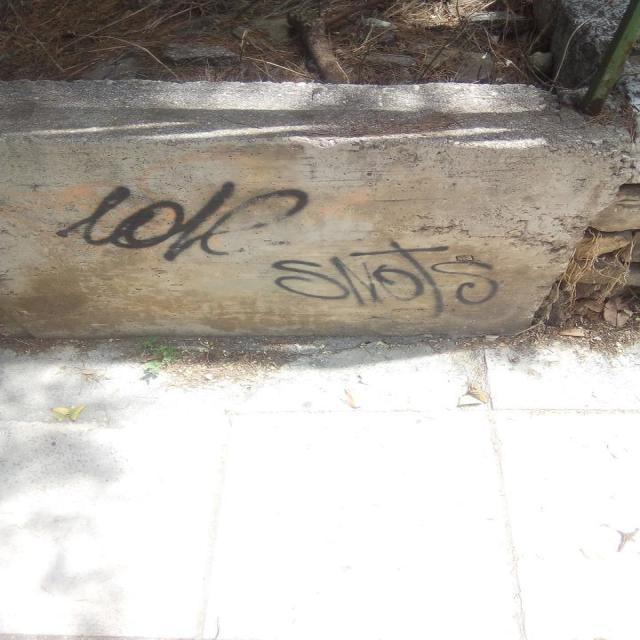nonspitting: (58, 180, 310, 261), (272, 238, 498, 318)
